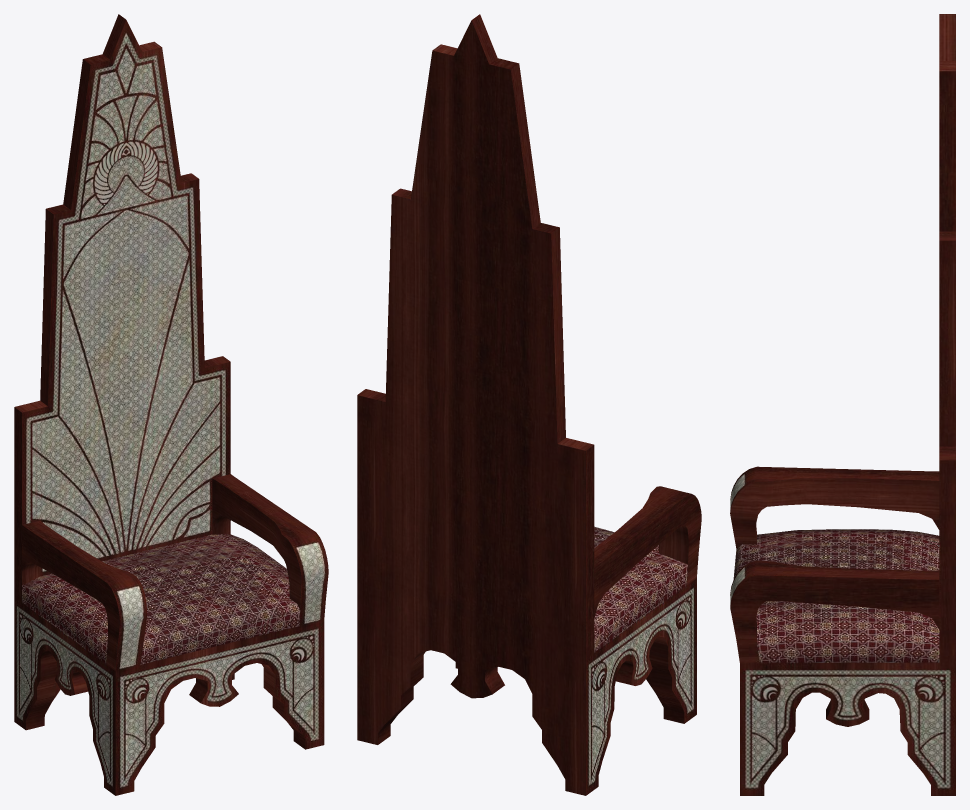
Rendered from pearl-throne.glb.
3 views of the same model, side by side, from view 1: azimuth 30°, elevation 25°; view 2: azimuth 150°, elevation 25°; view 3: azimuth 270°, elevation 25° (orthographic). The views are drawn at different scales.
Parts seen in each view (by area): view 1: throne_low_h; view 2: throne_low_h; view 3: throne_low_h.
Boxes of the visible parts, x1,y1,x2,y2 form: throne_low_h: [14, 14, 328, 795]; throne_low_h: [357, 14, 701, 795]; throne_low_h: [730, 14, 955, 795].
Bounding box in the file's own units: 0.6634 × 2 × 0.5622.
1 material, 1 textured.
